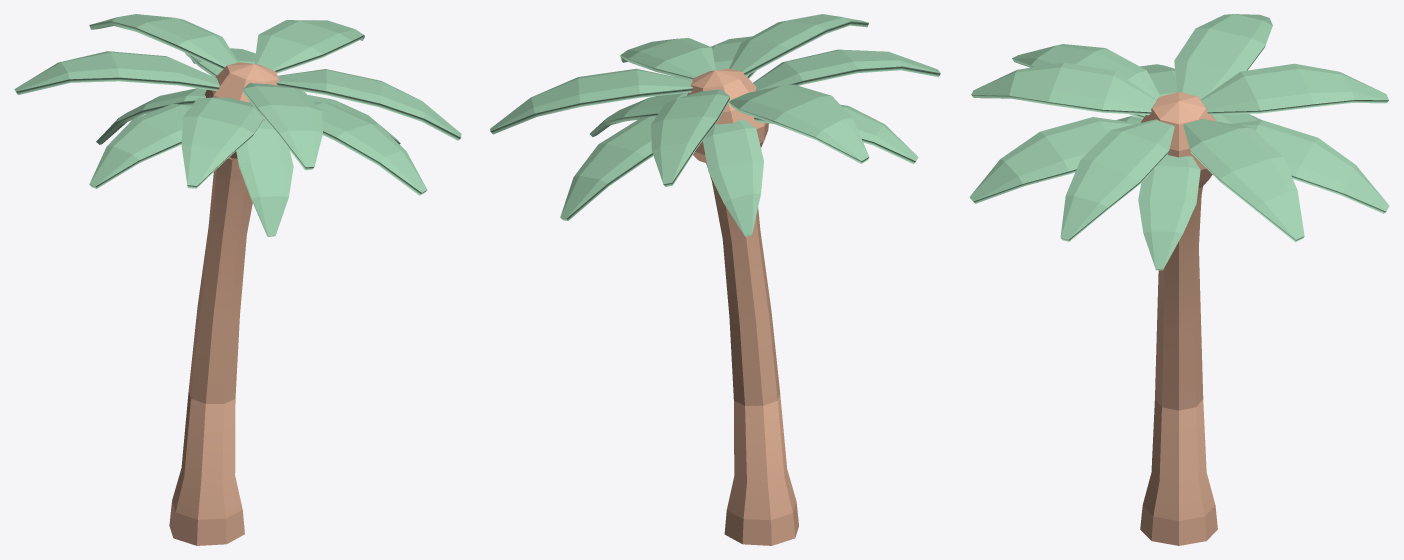
The model's file is palm_tree.fbx.
3 views of the same model, side by side, from view 1: azimuth 30°, elevation 25°; view 2: azimuth 150°, elevation 25°; view 3: azimuth 270°, elevation 25° (orthographic).
Visible parts, largest first — view 1: leaves, Palmtreetrunk; view 2: leaves, Palmtreetrunk; view 3: leaves, Palmtreetrunk.
Part boxes in pixels (x1,y1,x2,y2): leaves: [14, 14, 461, 236]; Palmtreetrunk: [169, 62, 279, 545]; leaves: [490, 14, 940, 236]; Palmtreetrunk: [687, 68, 798, 545]; leaves: [969, 14, 1389, 270]; Palmtreetrunk: [1140, 92, 1217, 545].
Bounding box in the file's own units: 5.15 × 6.29 × 5.15.
